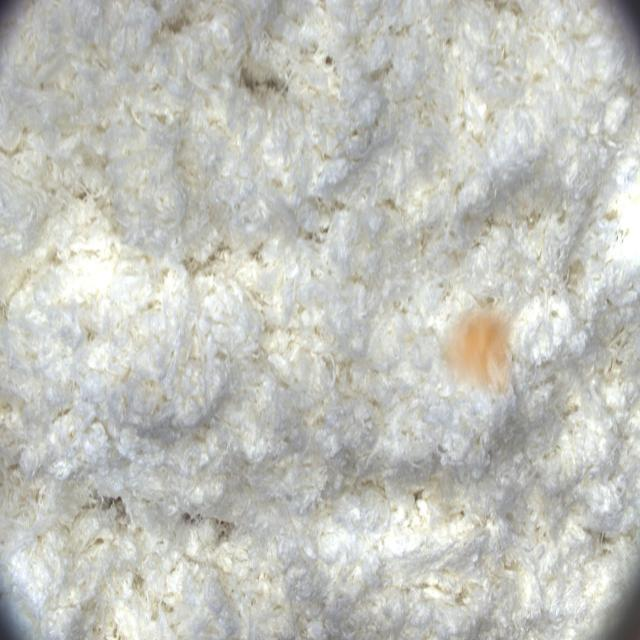dust: (439, 299, 521, 399)
